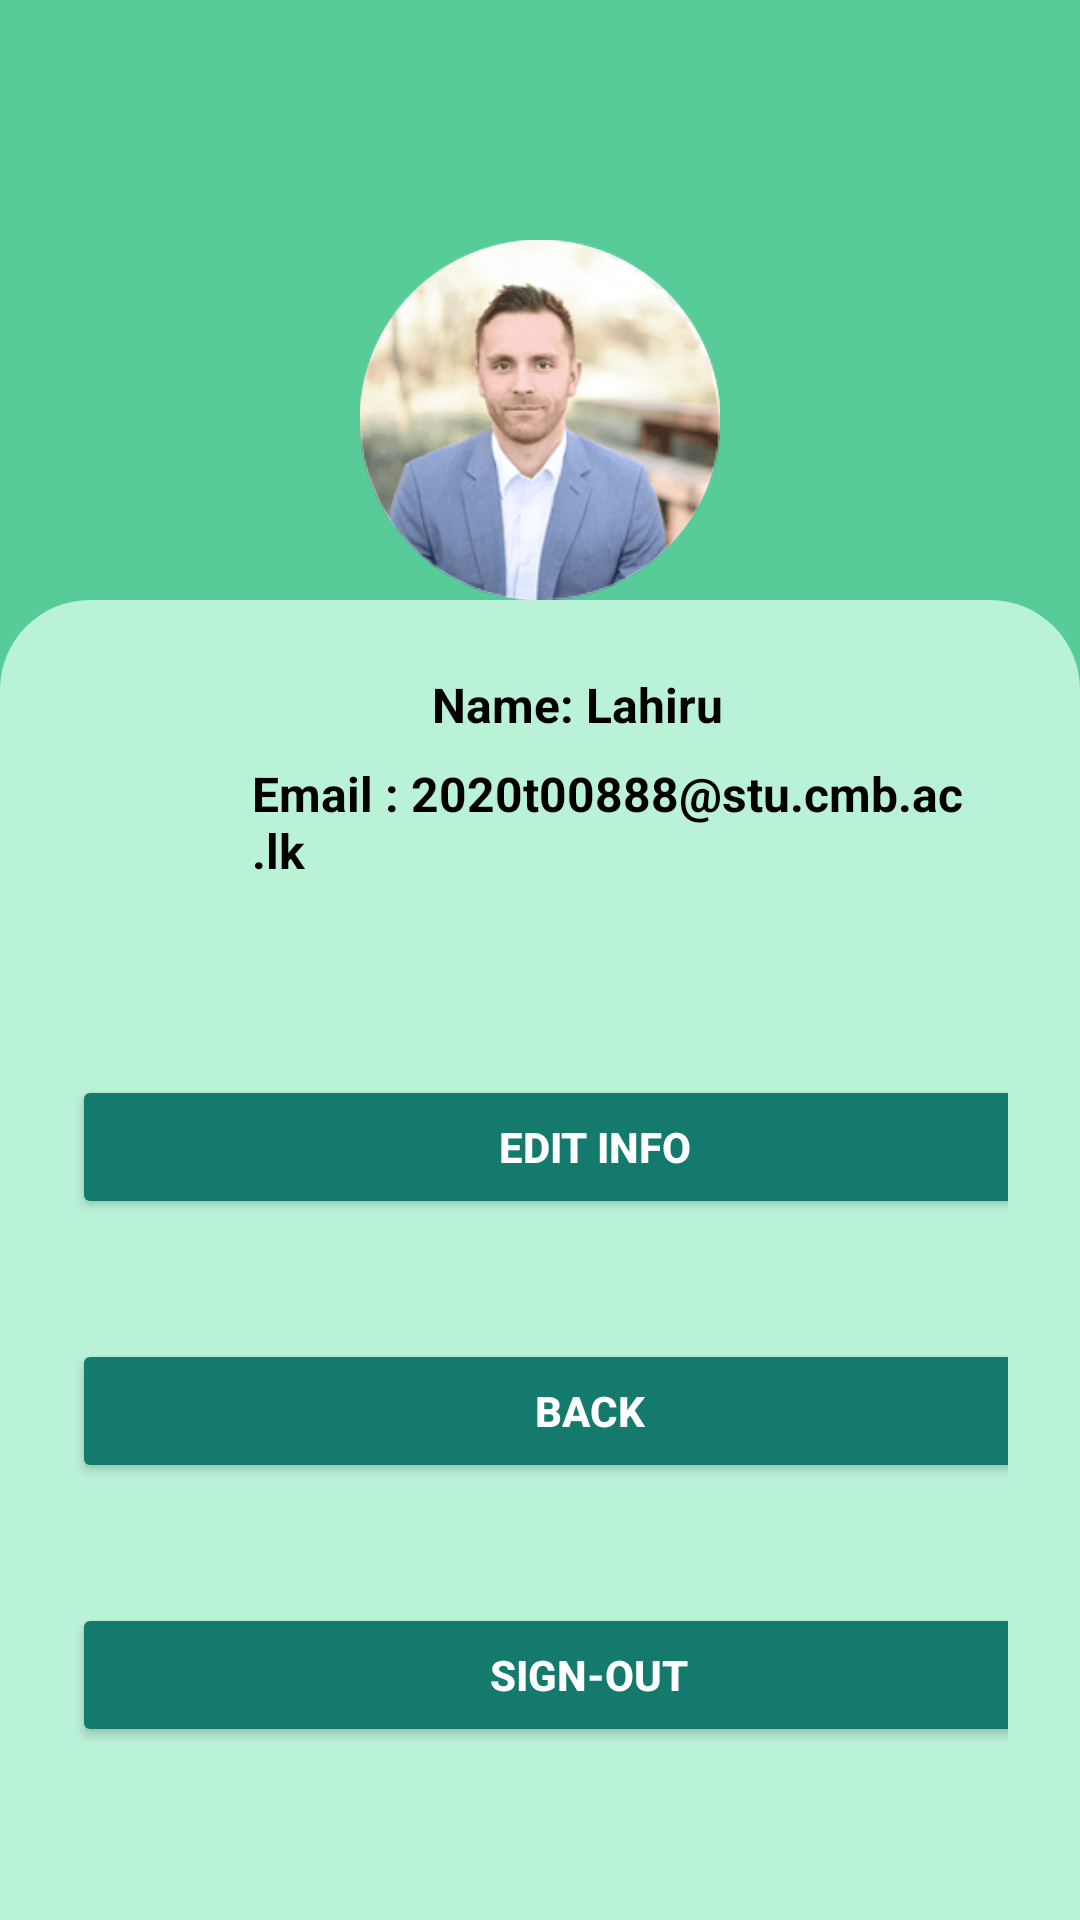

Where icons sit on this 1080px x 1920px app screen, as box=[x1, y1, x2, y2]:
profile picture: box=[360, 240, 720, 600]
